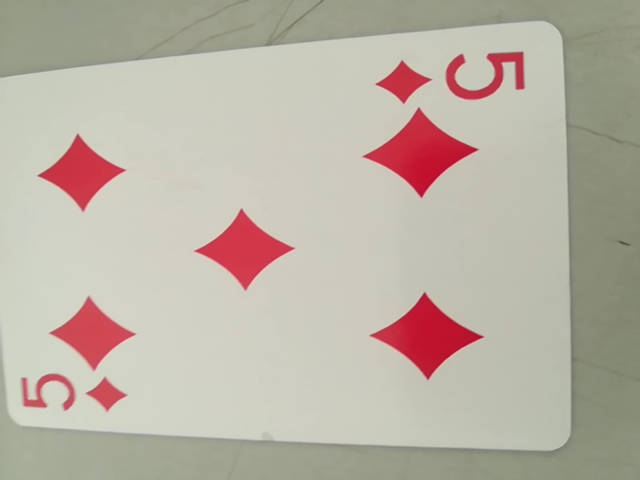fk 5: (375, 43, 527, 111), (10, 365, 133, 425)
